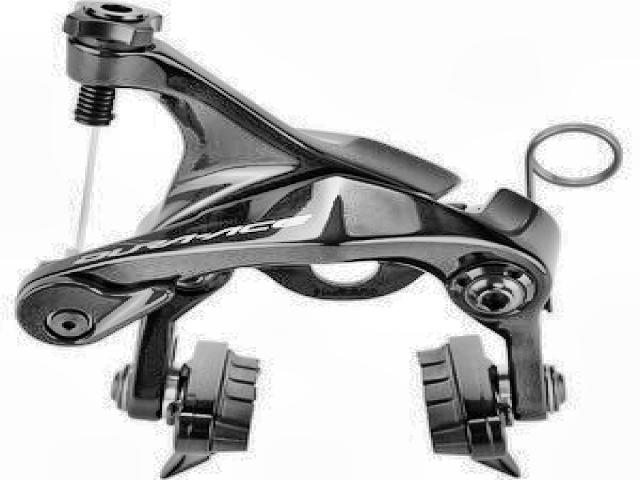rim_brake: (12, 3, 564, 479)
